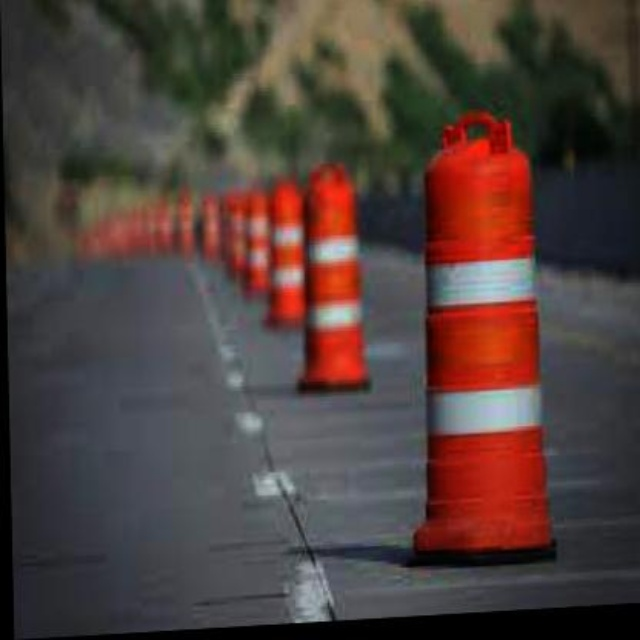obstacle: (402, 127, 559, 575), (294, 163, 361, 398)
